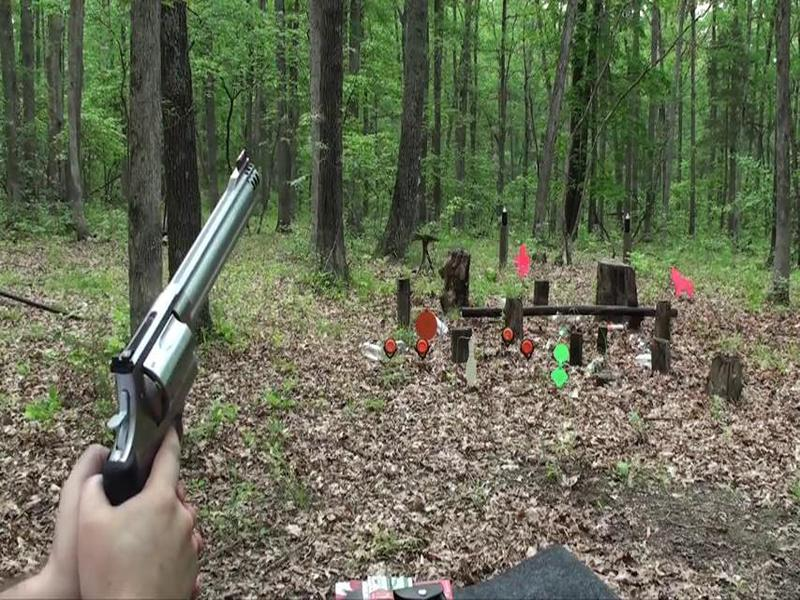Revolver: (79, 142, 280, 521)
